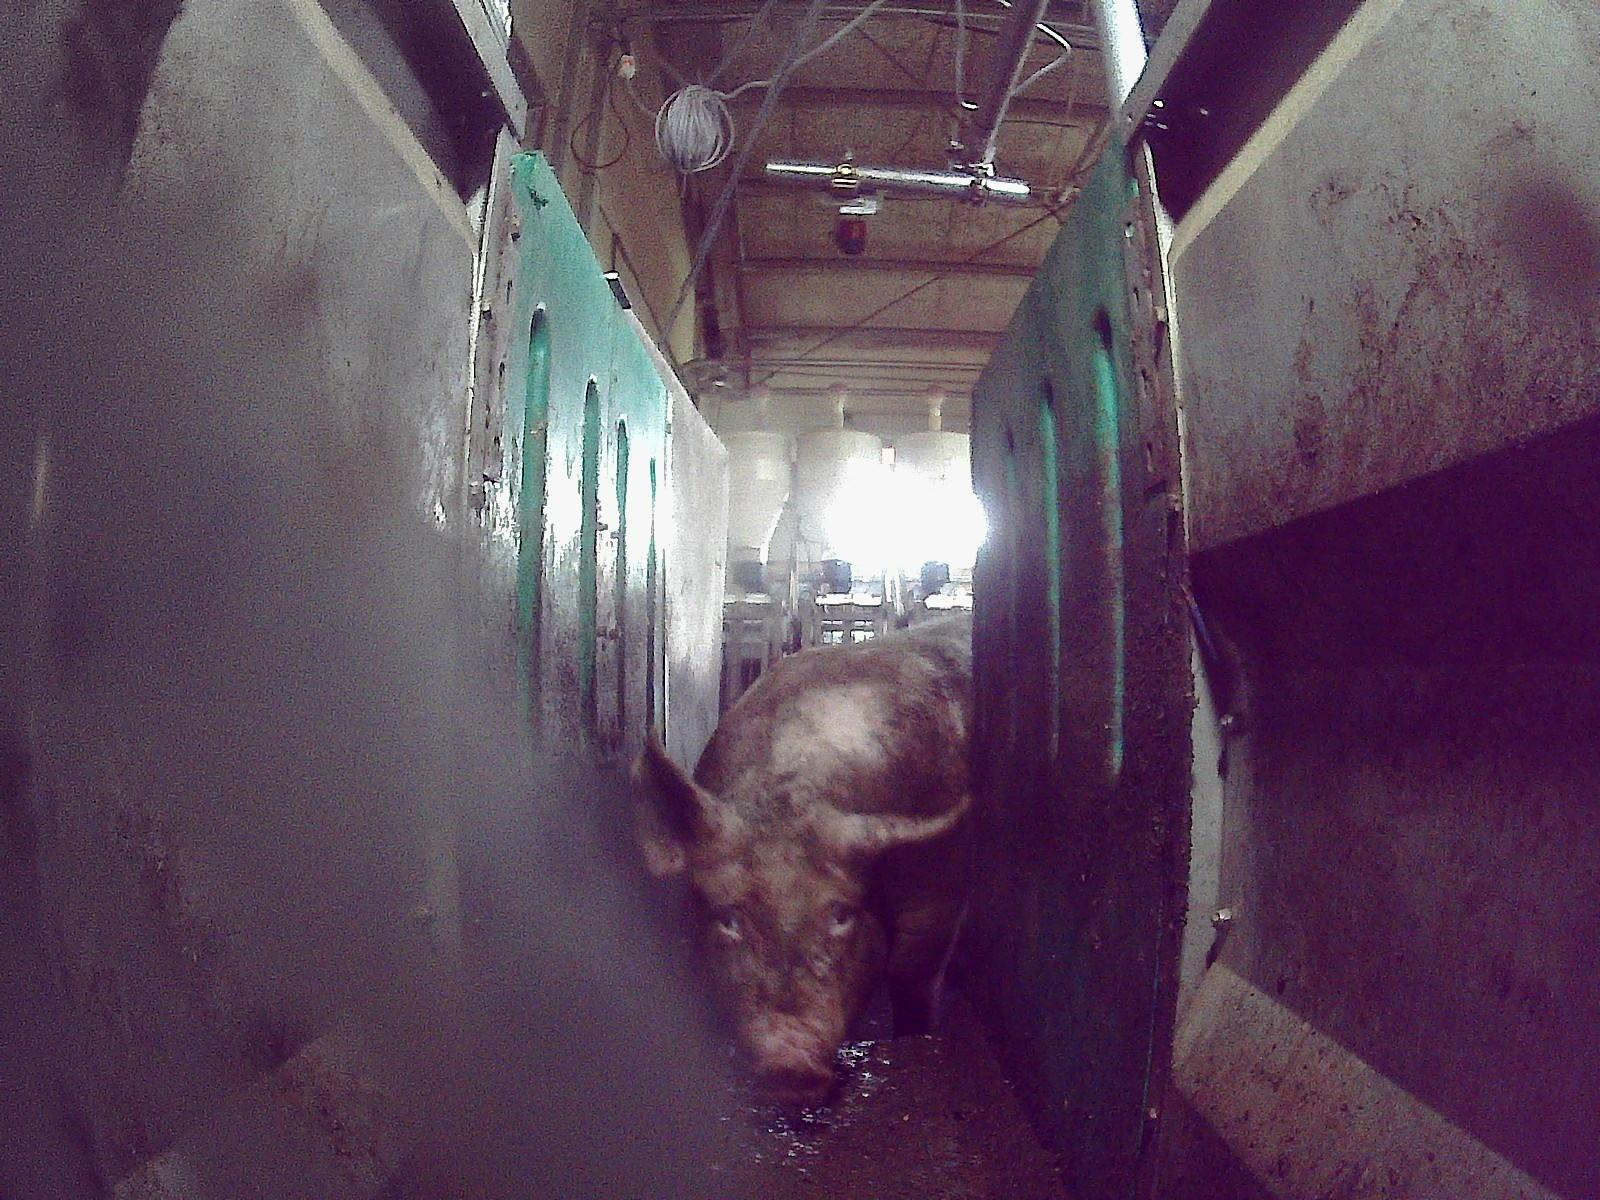Face: (683, 809, 888, 1096)
